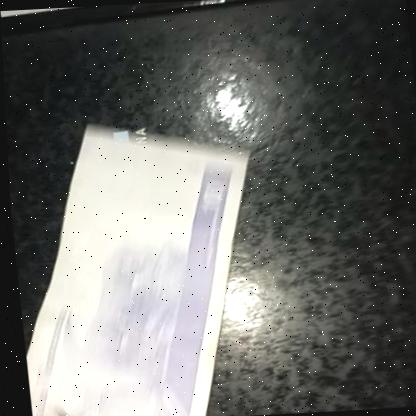ten-back-vef: (6, 137, 270, 416)
